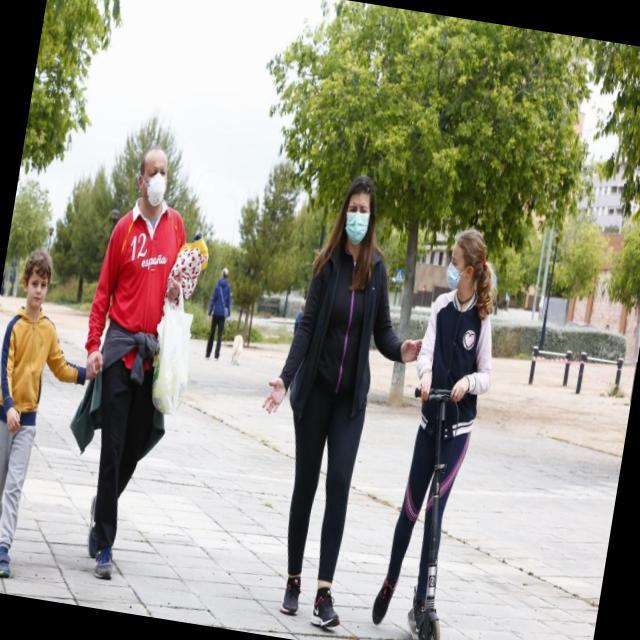person: (220, 143, 449, 640), (37, 124, 214, 580), (355, 207, 514, 640), (0, 241, 122, 601), (186, 243, 247, 387)
